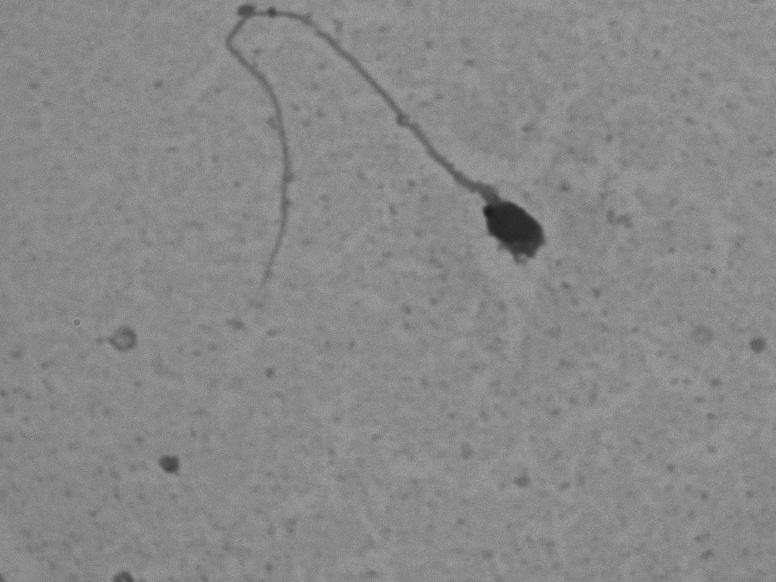Abnormal: (181, 5, 616, 303)
